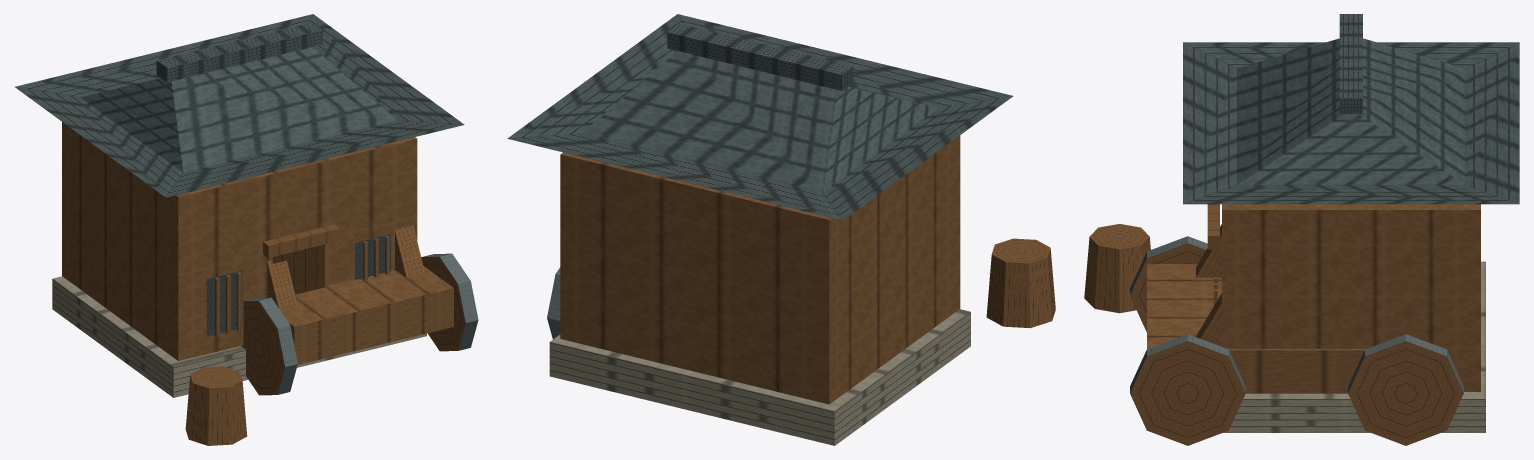
The model's file is domestic-WORKSHOP-1-lod1.glb.
3 renders of one model, left to right at view 1: azimuth 30°, elevation 25°; view 2: azimuth 150°, elevation 25°; view 3: azimuth 270°, elevation 25°, orthographic. The views are drawn at different scales.
Size of the model in its own units: 0.5733 by 0.509 by 0.639.
Materials: 1 (1 with a texture image).
